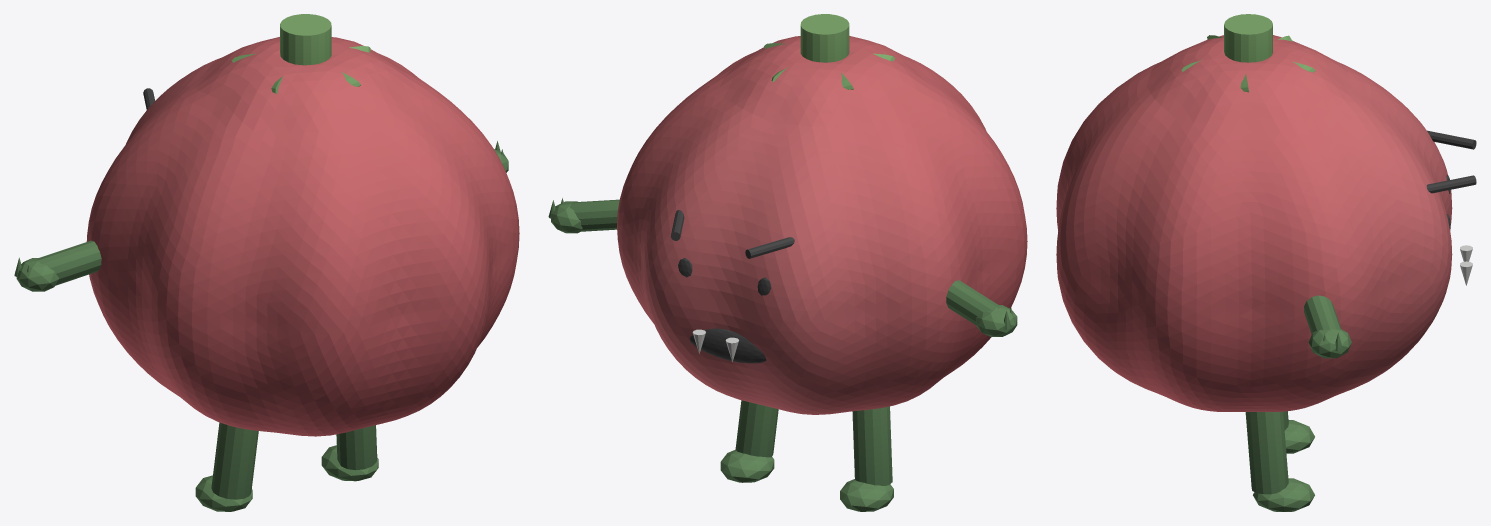
The model's file is tomato_monster.glb.
3 renders of one model, left to right at view 1: azimuth 30°, elevation 25°; view 2: azimuth 150°, elevation 25°; view 3: azimuth 270°, elevation 25°, orthographic. The views are drawn at different scales.
Parts seen in each view (by area): view 1: world; view 2: world; view 3: world.
Boxes of the visible parts, x1,y1,x2,y2 form: world: (14, 14, 519, 511); world: (548, 14, 1027, 511); world: (1056, 14, 1476, 511).
Bounding box in the file's own units: 1.96 × 1.85 × 1.54.
